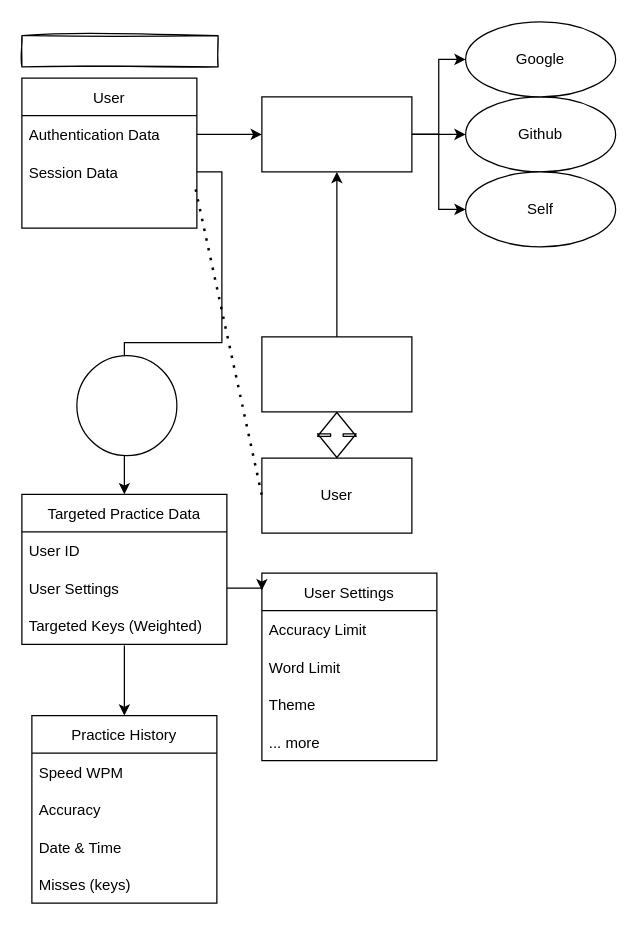
The diagram is 638 pixels wide and 925 high, and some of its shapes have lost their labels. Each missing label, with the centre of its shape:
"API" goes at point (119, 50).
"Authenticaton" goes at point (336, 374).
"Passport.JS" goes at point (336, 134).
"Session Seed" goes at point (126, 405).
